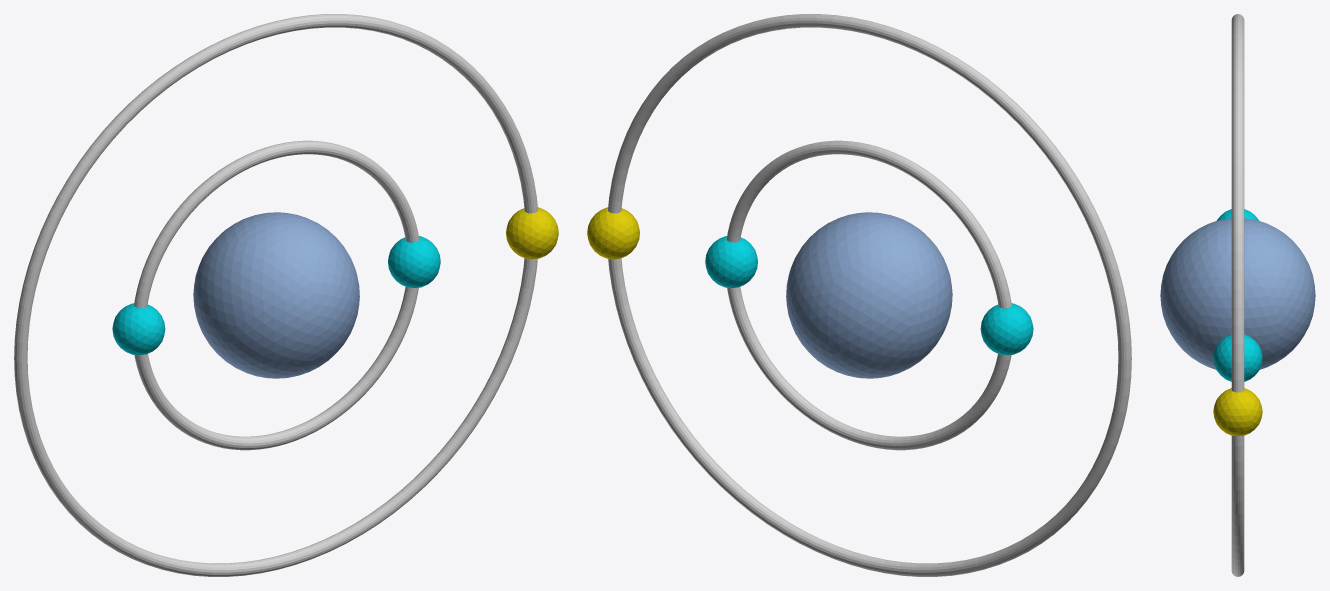
3 renders of one model, left to right at view 1: azimuth 30°, elevation 25°; view 2: azimuth 150°, elevation 25°; view 3: azimuth 270°, elevation 25°, orthographic. The views are drawn at different scales.
Visible parts, largest first — view 1: Camada_2, Nucleo_Li, Camada_1, e1_2, e2_1, e1_1; view 2: Camada_2, Nucleo_Li, Camada_1, e1_2, e2_1, e1_1; view 3: Nucleo_Li, Camada_2, e2_1, e1_1.
Boxes of the visible parts, box(x1,y1,x2,y2) form: Camada_2: box(14, 14, 537, 576); Nucleo_Li: box(193, 212, 359, 378); Camada_1: box(134, 140, 419, 450); e1_2: box(112, 303, 165, 355); e2_1: box(506, 207, 558, 259); e1_1: box(388, 236, 440, 287); Camada_2: box(608, 14, 1131, 576); Nucleo_Li: box(786, 212, 952, 378); Camada_1: box(726, 140, 1011, 450); e1_2: box(980, 303, 1033, 355); e2_1: box(587, 207, 639, 259); e1_1: box(705, 236, 757, 287); Nucleo_Li: box(1160, 218, 1315, 369); Camada_2: box(1231, 14, 1244, 576); e2_1: box(1213, 388, 1262, 436); e1_1: box(1213, 334, 1262, 381).
Bounding box in the file's own units: 1.65 × 1.6 × 0.44.
